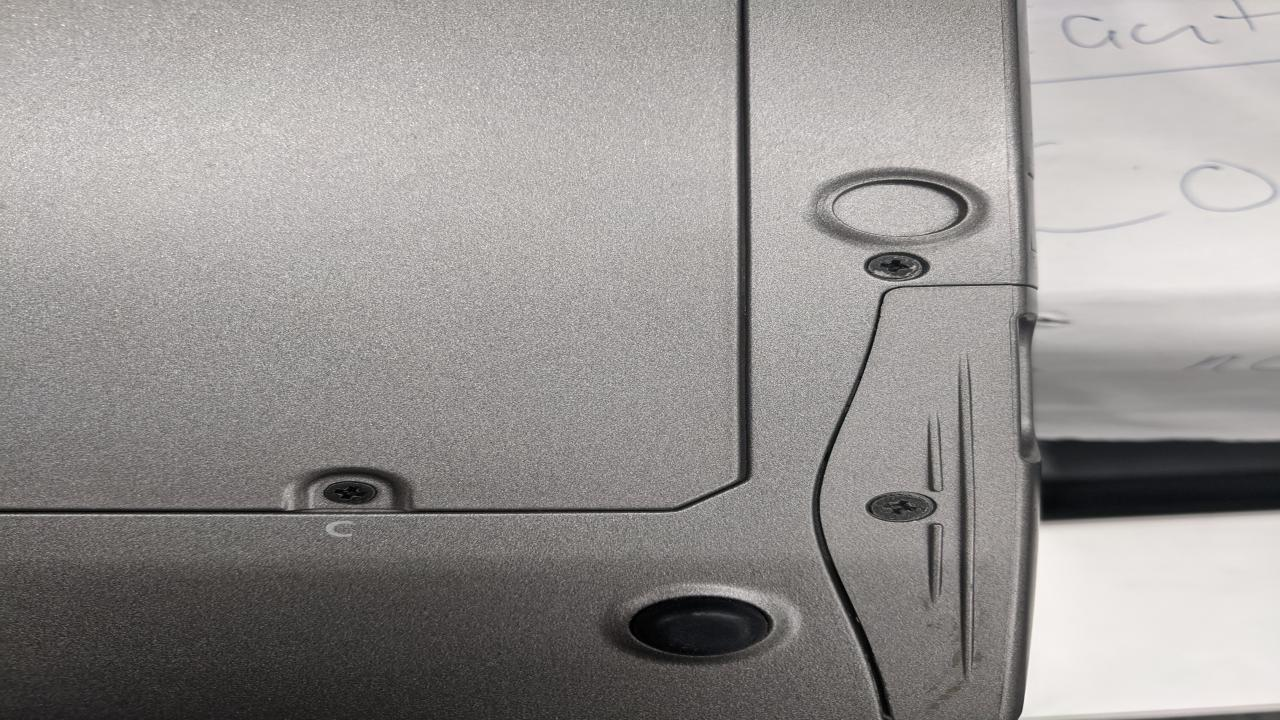CRS: (863, 489, 934, 526), (857, 250, 934, 281), (321, 481, 384, 507)
